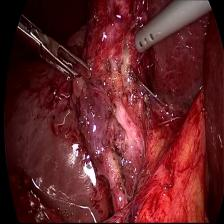Grasper: (33, 17, 93, 88)
Irrigator: (132, 16, 165, 56)
